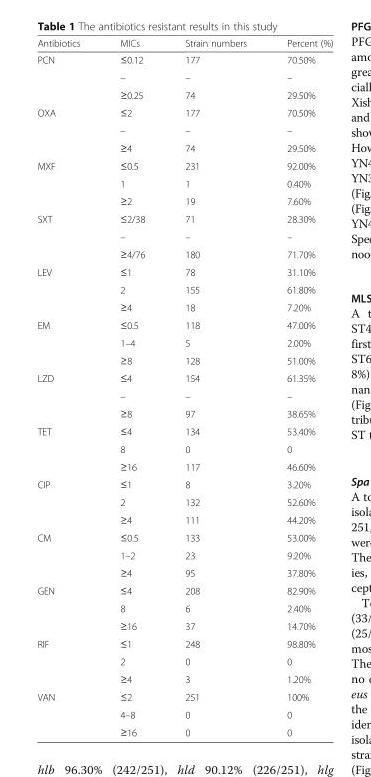table: (36, 37, 332, 737)
table column: (164, 37, 266, 737), (266, 37, 332, 737), (99, 37, 164, 737), (36, 37, 99, 737)
table column header: (36, 37, 332, 50)
table row: (36, 50, 332, 68), (36, 85, 332, 103), (36, 103, 332, 121), (36, 138, 332, 156), (36, 156, 332, 174), (36, 191, 332, 209), (36, 209, 332, 227), (36, 244, 332, 262), (36, 262, 332, 280), (36, 280, 332, 298), (36, 315, 332, 333), (36, 333, 332, 351), (36, 368, 332, 386), (36, 386, 332, 404), (36, 404, 332, 422), (36, 439, 332, 457), (36, 457, 332, 475), (36, 475, 332, 493), (36, 510, 332, 528), (36, 528, 332, 546), (36, 563, 332, 581), (36, 581, 332, 599), (36, 616, 332, 634), (36, 634, 332, 652), (36, 669, 332, 687), (36, 687, 332, 705), (36, 68, 332, 85), (36, 121, 332, 138), (36, 174, 332, 191), (36, 227, 332, 244), (36, 298, 332, 315), (36, 351, 332, 368), (36, 422, 332, 439), (36, 493, 332, 510), (36, 546, 332, 563), (36, 599, 332, 616), (36, 652, 332, 669), (36, 705, 332, 722), (36, 722, 332, 737), (36, 37, 332, 50)
table spanning cell: (36, 368, 99, 422), (36, 50, 99, 103), (36, 103, 99, 156), (36, 156, 99, 209), (36, 209, 99, 262), (36, 262, 99, 315), (36, 315, 99, 368), (36, 422, 99, 475), (36, 475, 99, 528), (36, 528, 99, 581), (36, 581, 99, 634), (36, 634, 99, 687), (36, 687, 99, 737)
